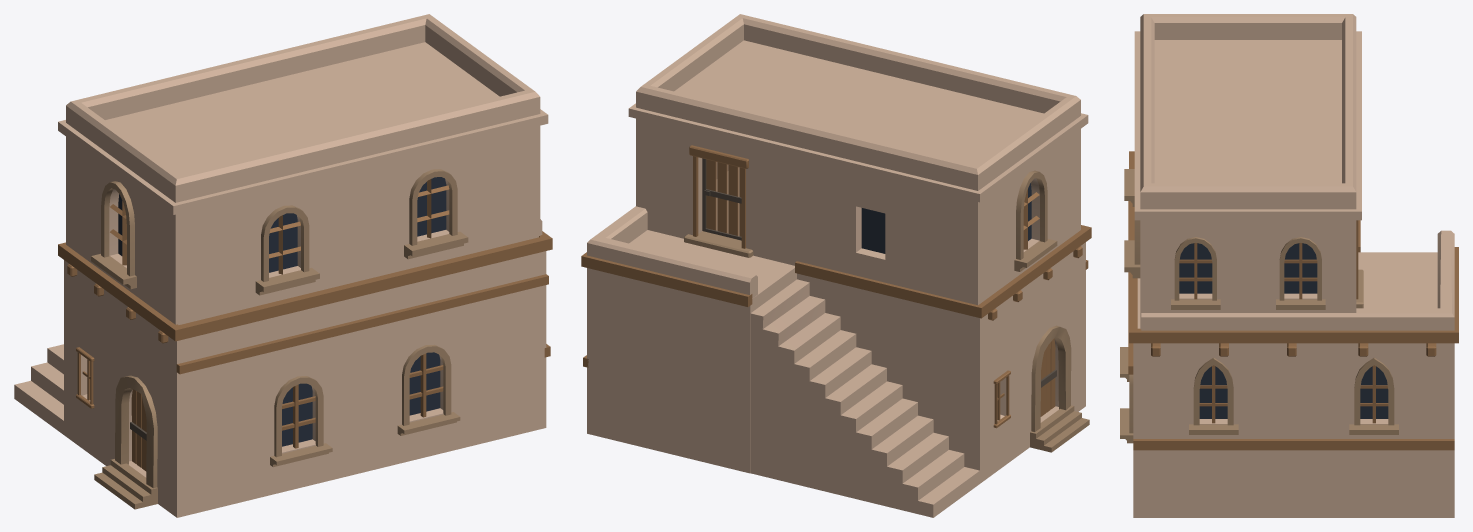
Rendered from civilian_house_31_h.glb.
The picture shows the model from 3 angles, left to right: view 1: azimuth 30°, elevation 25°; view 2: azimuth 150°, elevation 25°; view 3: azimuth 270°, elevation 25°; orthographic projection. The views are drawn at different scales.
Visible parts, largest first — view 1: civilian_house_31_h; view 2: civilian_house_31_h; view 3: civilian_house_31_h.
Boxes of the visible parts, box(x1,y1,x2,y2) form: civilian_house_31_h: box(14, 14, 552, 517); civilian_house_31_h: box(581, 14, 1091, 517); civilian_house_31_h: box(1120, 14, 1458, 517).
Bounding box in the file's own units: 11.46 × 9.04 × 8.44.
